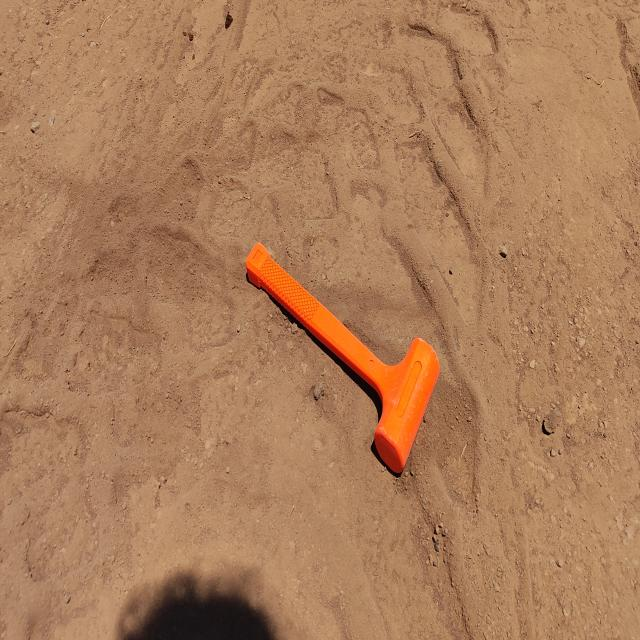Orange_hammer: (245, 240, 440, 476)
